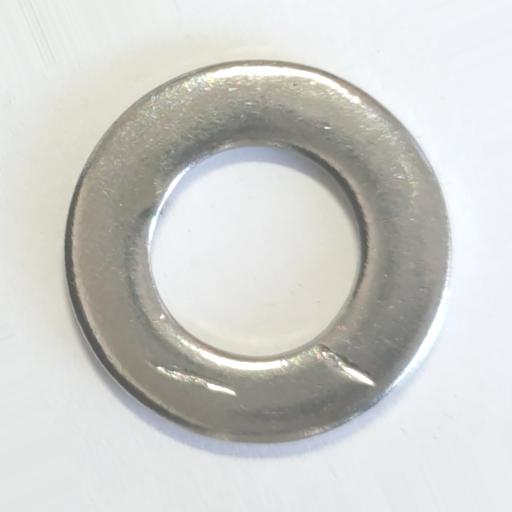scratch: (145, 358, 237, 397), (313, 344, 376, 386)
